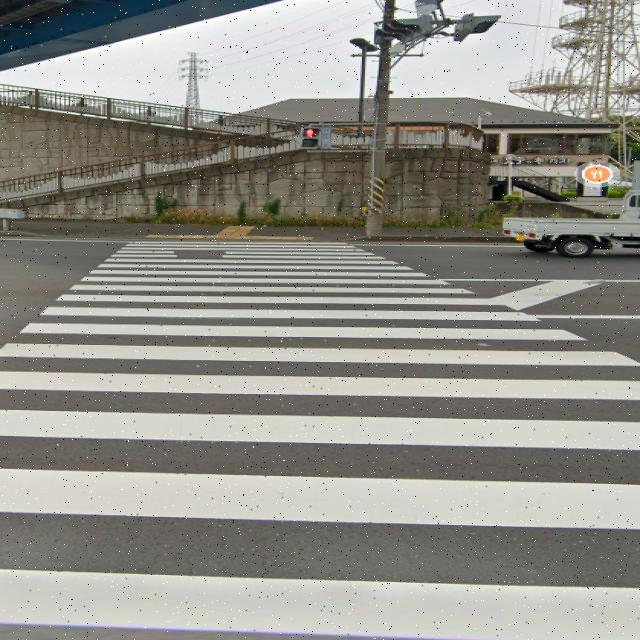traffic-light: (304, 123, 320, 149)
